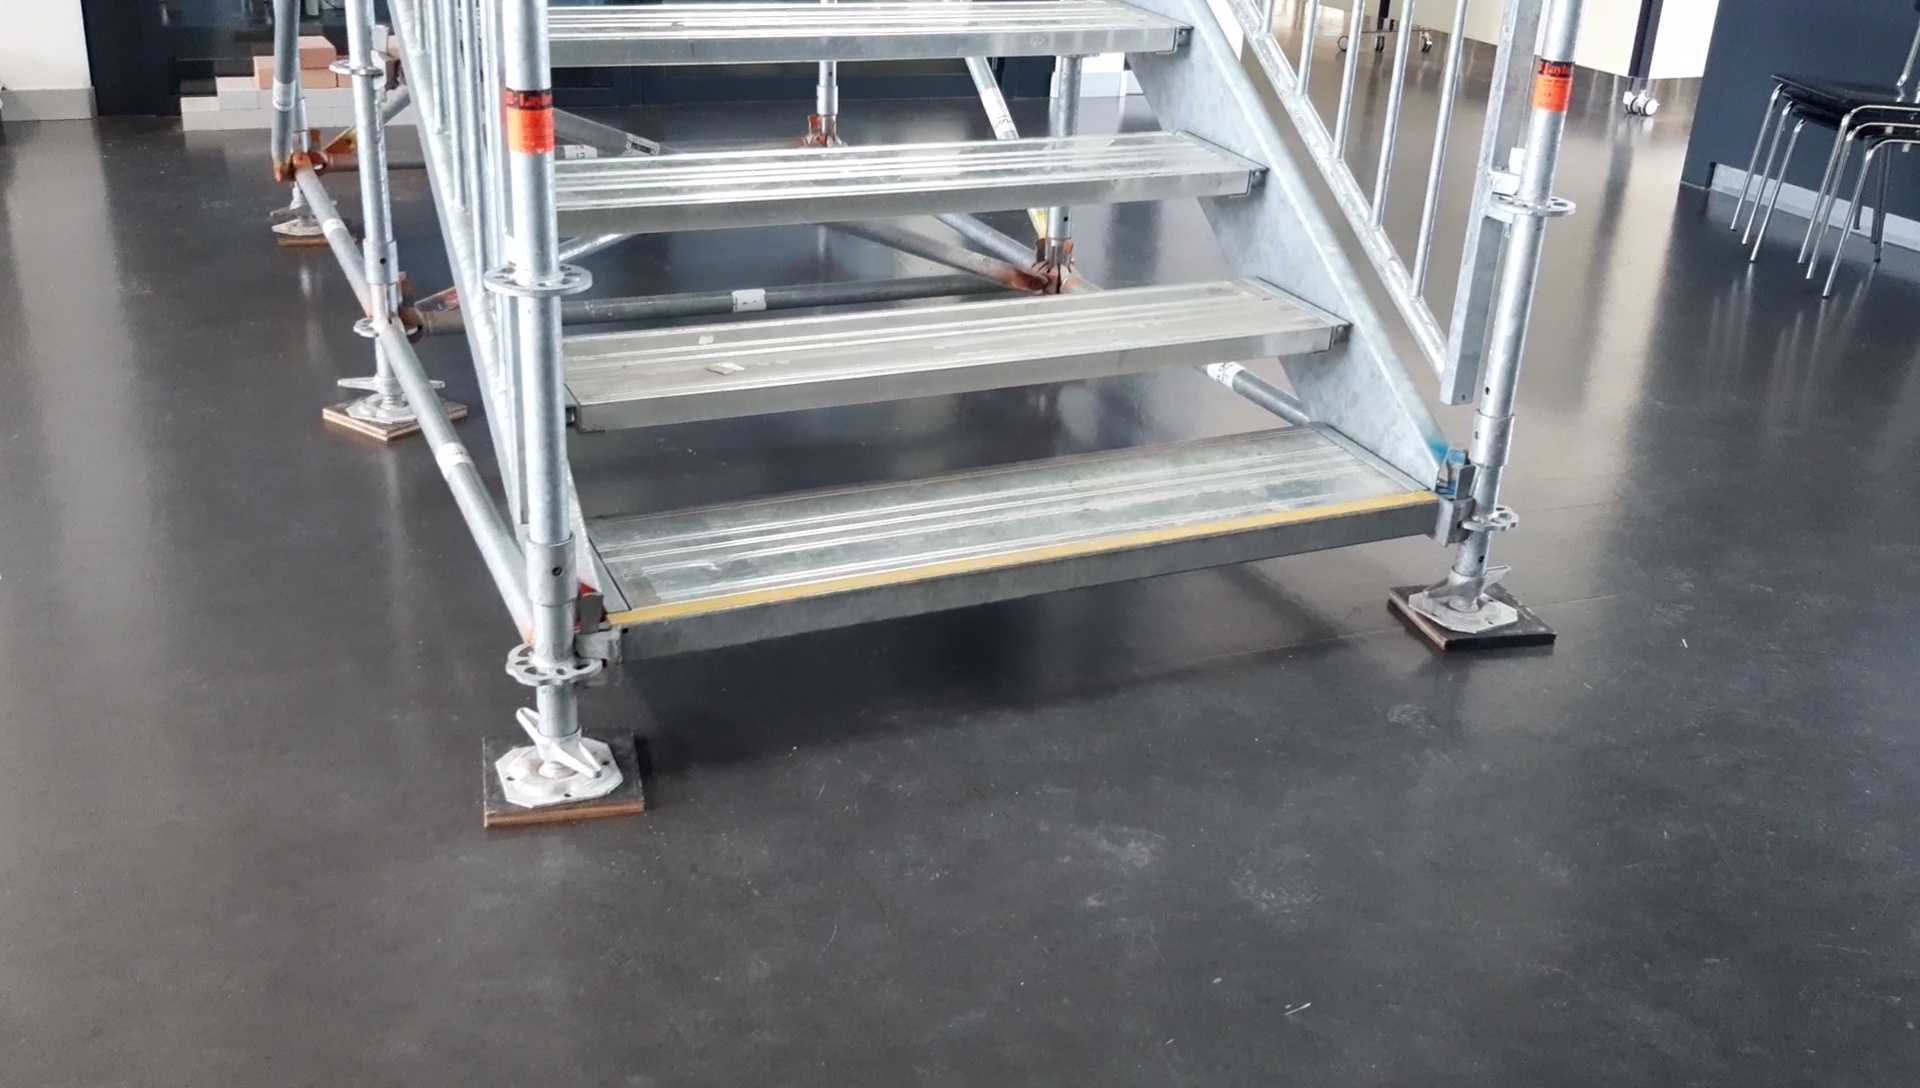edge: (622, 499, 1437, 659), (563, 323, 1352, 430), (550, 167, 1270, 231), (549, 22, 1192, 66)
stairs: (477, 7, 1555, 826)
